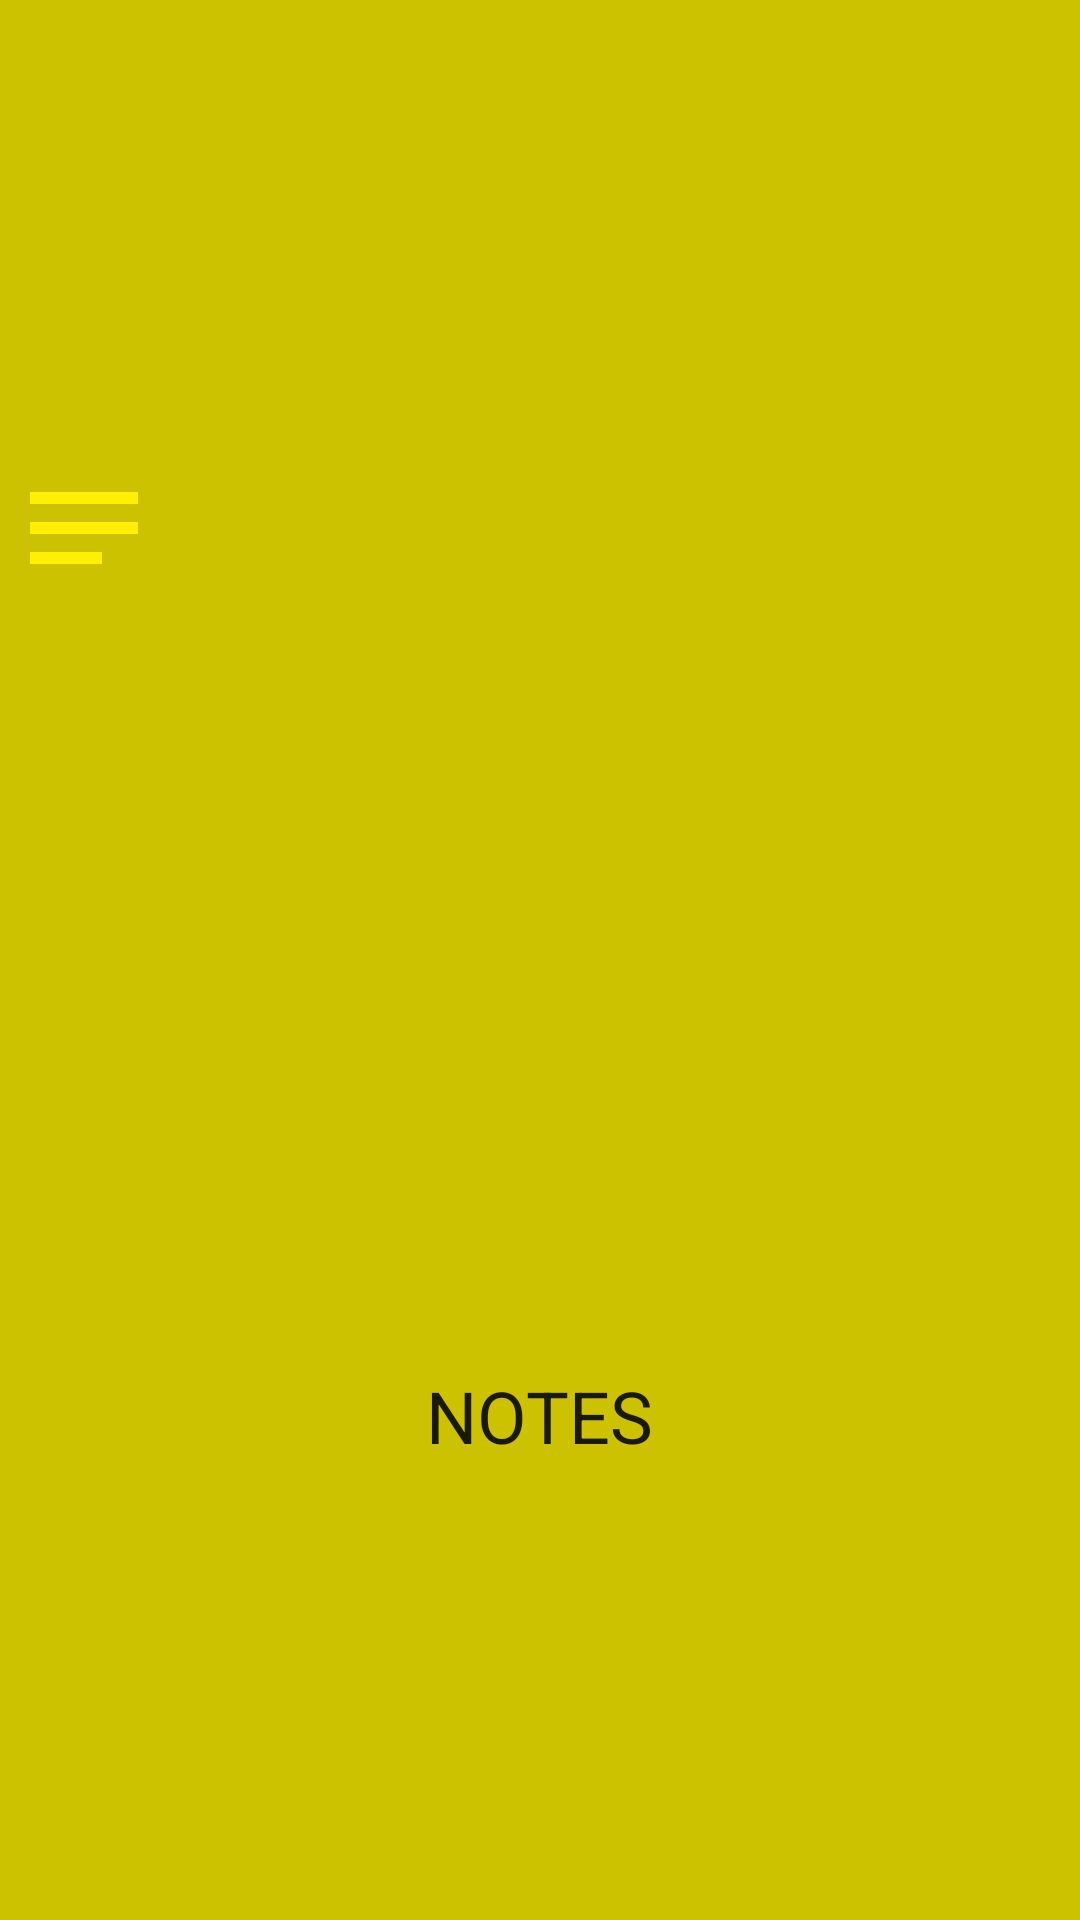

Icons on this 1080w x 1920h Android screen, each with its box as box(x1, y1, x2, y2):
note: box(30, 492, 138, 564)
